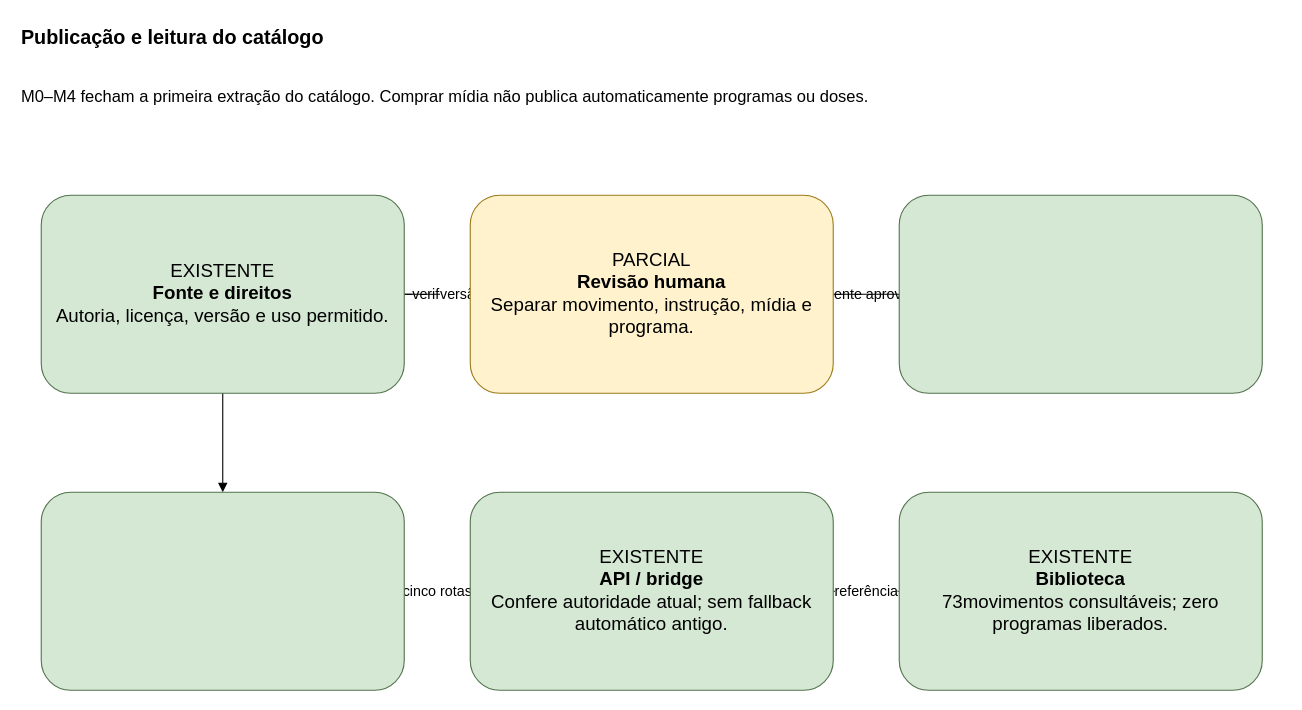
Some shapes in this 1302 by 710 pixel diagram are drawn without their labels. Each missing label, with the box of its shape:
EXISTENTE Catálogo separado Leitor sem acesso às tabelas pessoais.: (40, 491, 404, 690)
EXISTENTE Publicação editorial Artefato/digest imutável; autoridade e retirada.: (898, 194, 1262, 393)
